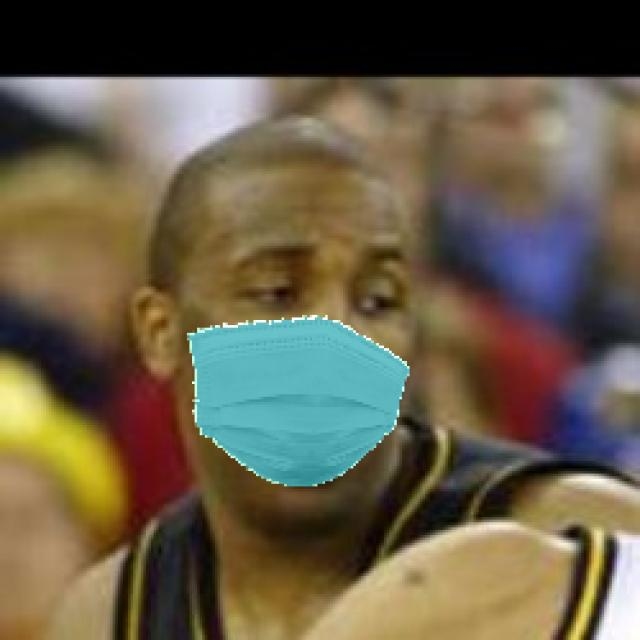mask: (182, 300, 415, 500)
